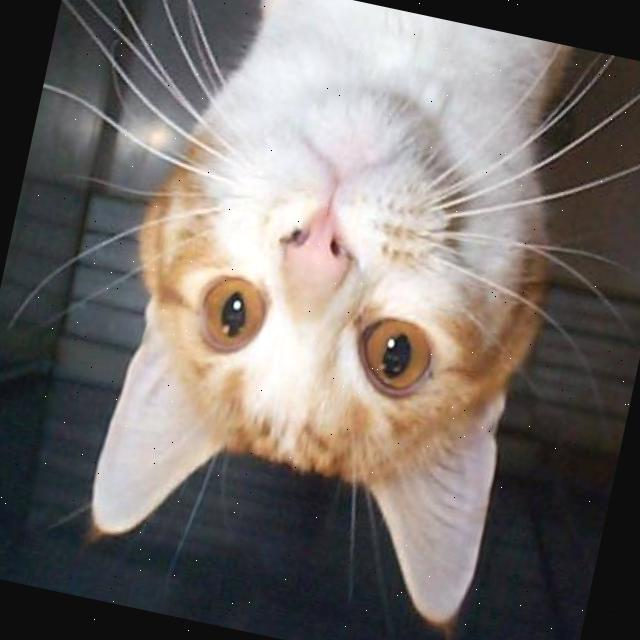cat-eye-normal: (177, 255, 282, 378), (334, 301, 448, 414)
